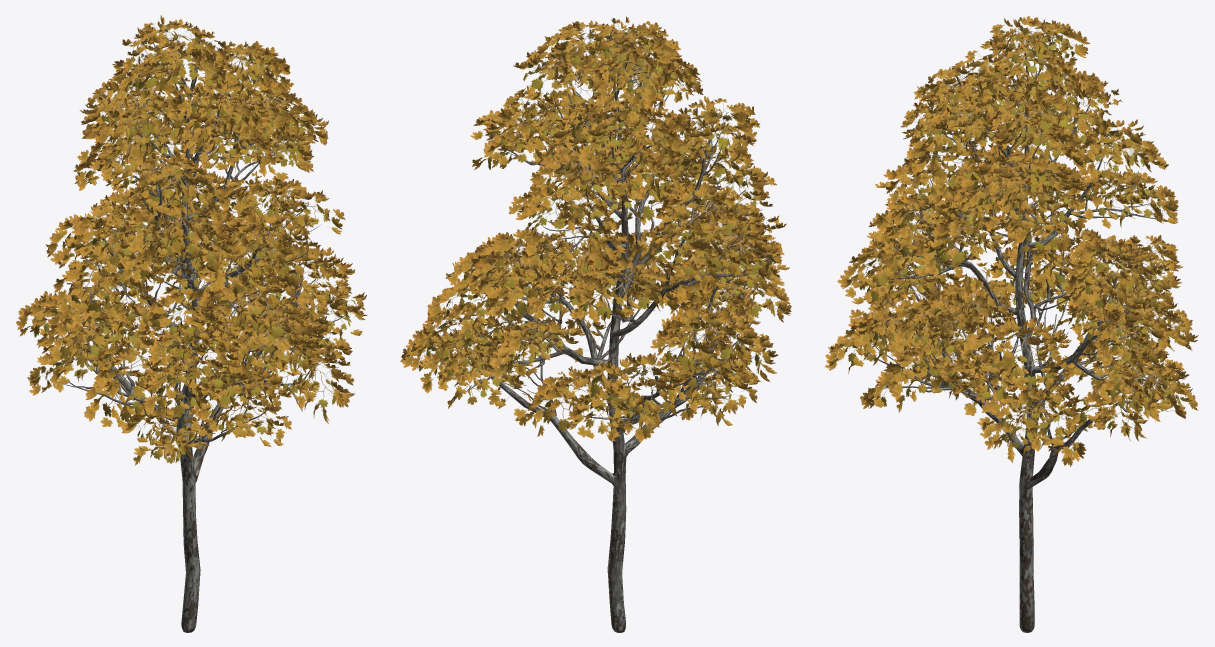
The model's file is platane-1.glb.
3 renders of one model, left to right at view 1: azimuth 30°, elevation 25°; view 2: azimuth 150°, elevation 25°; view 3: azimuth 270°, elevation 25°, orthographic.
Visible parts, largest first — view 1: Platano-Tree_leafs Platano_0_4, Platano-Tree_treetop platano_0_7, Platano-Tree_leafs Platano_0_5, Platano-Tree_Platano Trunk_0_6; view 2: Platano-Tree_leafs Platano_0_4, Platano-Tree_treetop platano_0_7, Platano-Tree_leafs Platano_0_5, Platano-Tree_Platano Trunk_0_6; view 3: Platano-Tree_leafs Platano_0_4, Platano-Tree_leafs Platano_0_5, Platano-Tree_treetop platano_0_7, Platano-Tree_Platano Trunk_0_6.
Boxes of the visible parts, left/top/right/bottom form: Platano-Tree_leafs Platano_0_4: left=16, top=15, right=333, bottom=462; Platano-Tree_treetop platano_0_7: left=33, top=28, right=356, bottom=463; Platano-Tree_leafs Platano_0_5: left=83, top=188, right=367, bottom=465; Platano-Tree_Platano Trunk_0_6: left=61, top=36, right=345, bottom=632; Platano-Tree_leafs Platano_0_4: left=422, top=16, right=791, bottom=442; Platano-Tree_treetop platano_0_7: left=418, top=28, right=775, bottom=433; Platano-Tree_leafs Platano_0_5: left=400, top=134, right=789, bottom=432; Platano-Tree_Platano Trunk_0_6: left=440, top=33, right=776, bottom=632; Platano-Tree_leafs Platano_0_4: left=837, top=16, right=1198, bottom=467; Platano-Tree_leafs Platano_0_5: left=825, top=191, right=1197, bottom=462; Platano-Tree_treetop platano_0_7: left=844, top=27, right=1182, bottom=448; Platano-Tree_Platano Trunk_0_6: left=867, top=32, right=1168, bottom=632.
Size of the model in its own units: 352 by 646 by 365.
Materials: 3 (3 with a texture image).
